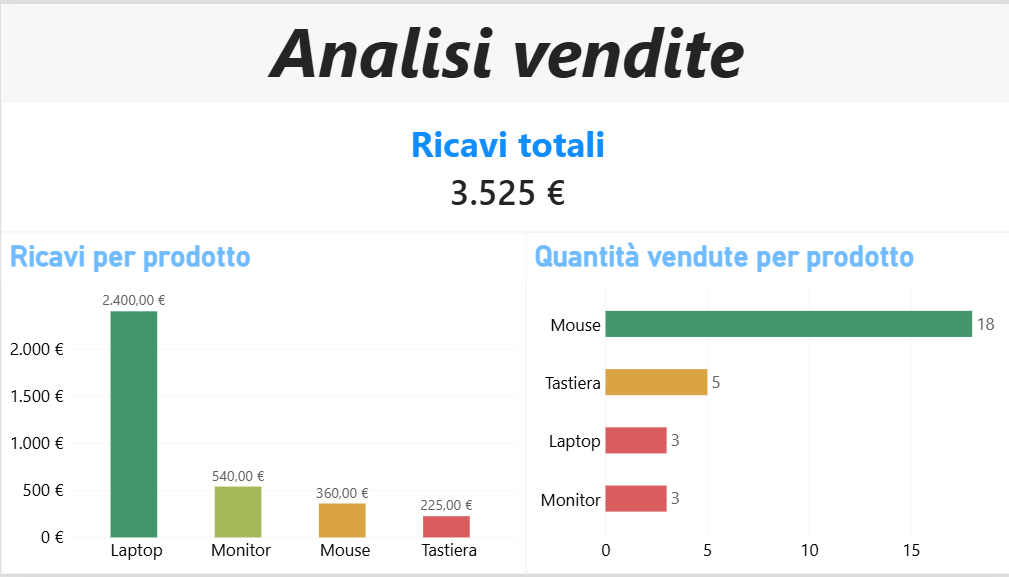

Layout of this report page (visuals, bound fields, positions):
{"tool":"powerbi","page":{"name":"Pagina 1","canvas":[1920,1080],"ordinal":0},"visuals":[{"type":"cardVisual","title":"Ricavi totali","fields":{"Data":["Sum(vendite.Ricavo)"]},"box":[0,184.8,1919.1,247.3],"z":0},{"type":"clusteredColumnChart","title":"Ricavi per prodotto","fields":{"Category":["vendite.Prodotto"],"Y":["Sum(vendite.Ricavo)"]},"box":[0,432.1,995.1,648.2],"z":1000},{"type":"clusteredBarChart","title":"Quantità vendute per prodotto","fields":{"Category":["vendite.Prodotto"],"Y":["Sum(vendite.Quantita)"]},"box":[995.1,432.1,924,648.2],"z":1001},{"type":"textbox","title":"Analisi Vendite","box":[0,0,1919.1,204.7],"z":1002}]}

Visuals, with their boxes in screenshot pixels (x1, y1, x2, y2), scaled from the page's 1920x1080 canvas onto the 1009x577 screenshot:
"Ricavi totali" cardVisual: (x1=0, y1=99, x2=1008, y2=231)
"Ricavi per prodotto" clusteredColumnChart: (x1=0, y1=231, x2=523, y2=576)
"Quantità vendute per prodotto" clusteredBarChart: (x1=523, y1=231, x2=1008, y2=576)
"Analisi Vendite" textbox: (x1=0, y1=0, x2=1008, y2=109)
